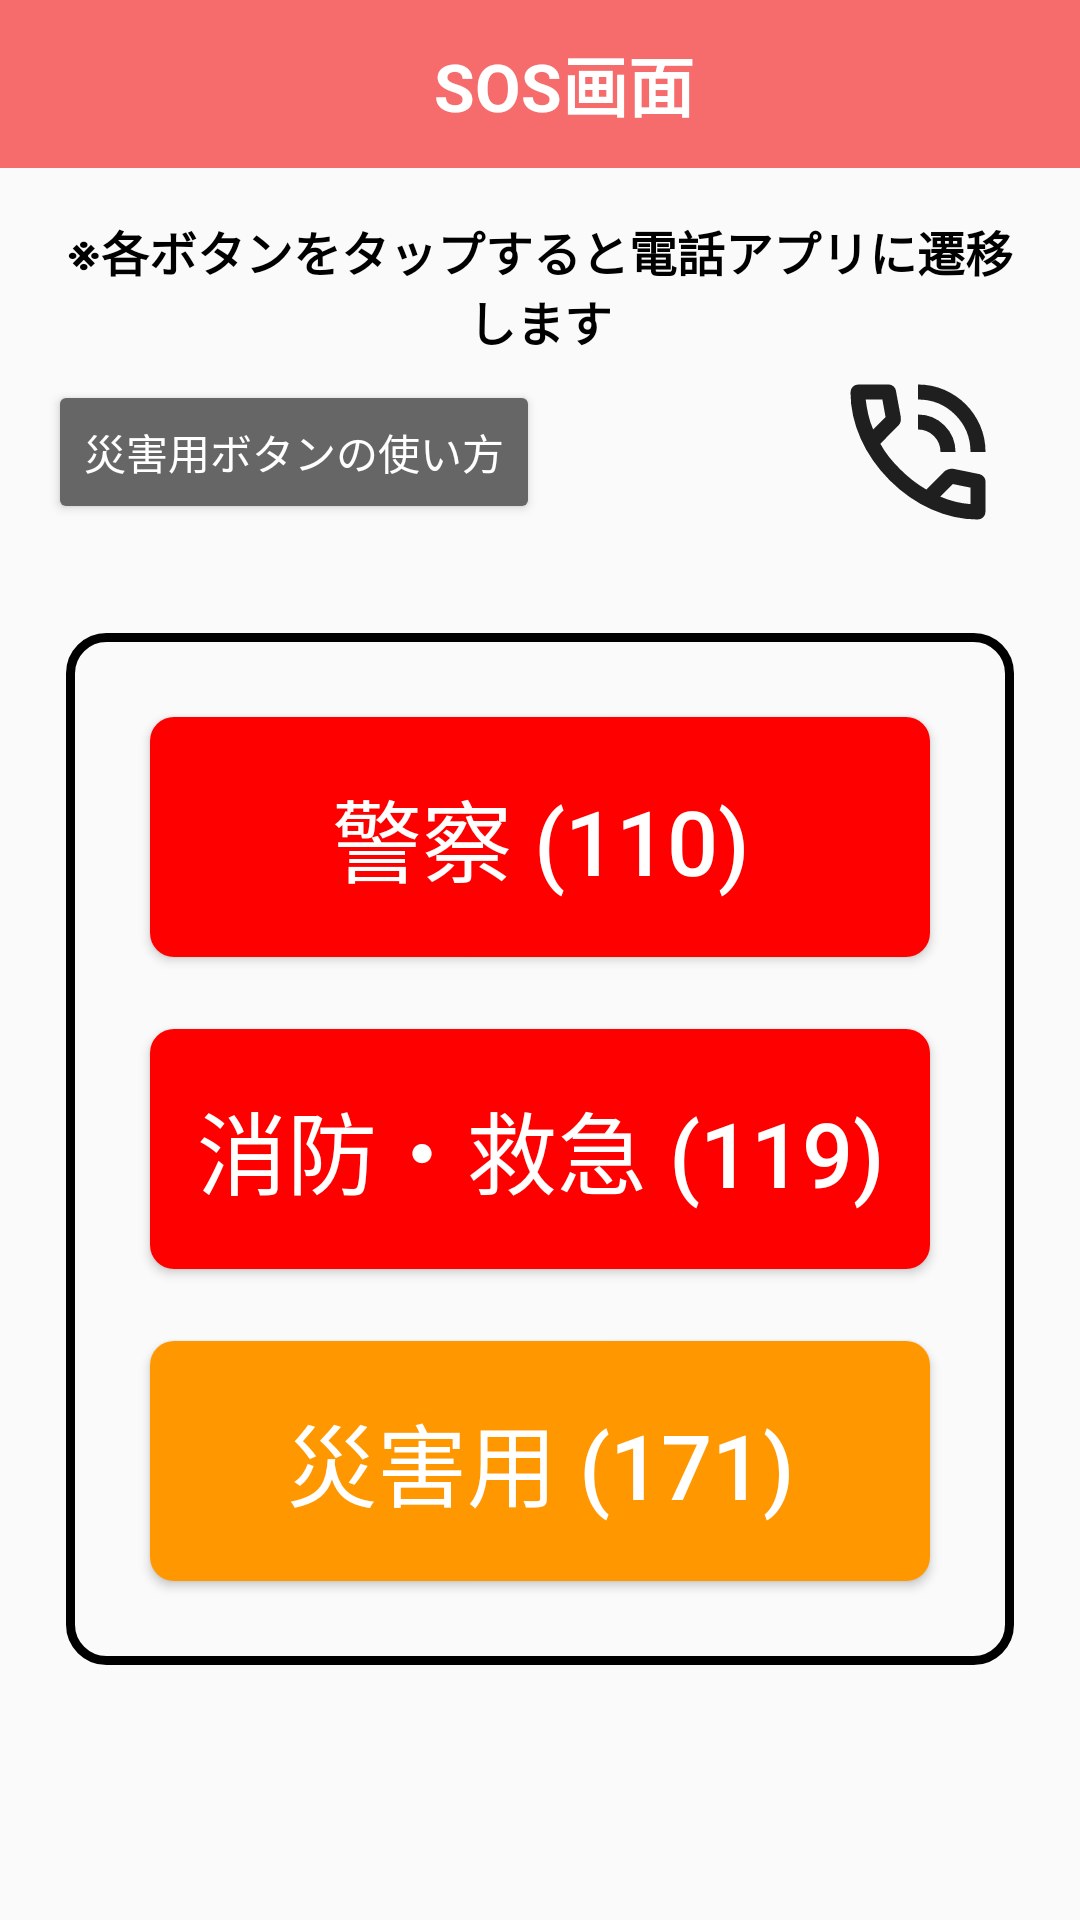

Where to tap for icons on this 1080*1920 app screen, as point (x, y):
phone: point (918, 452)
